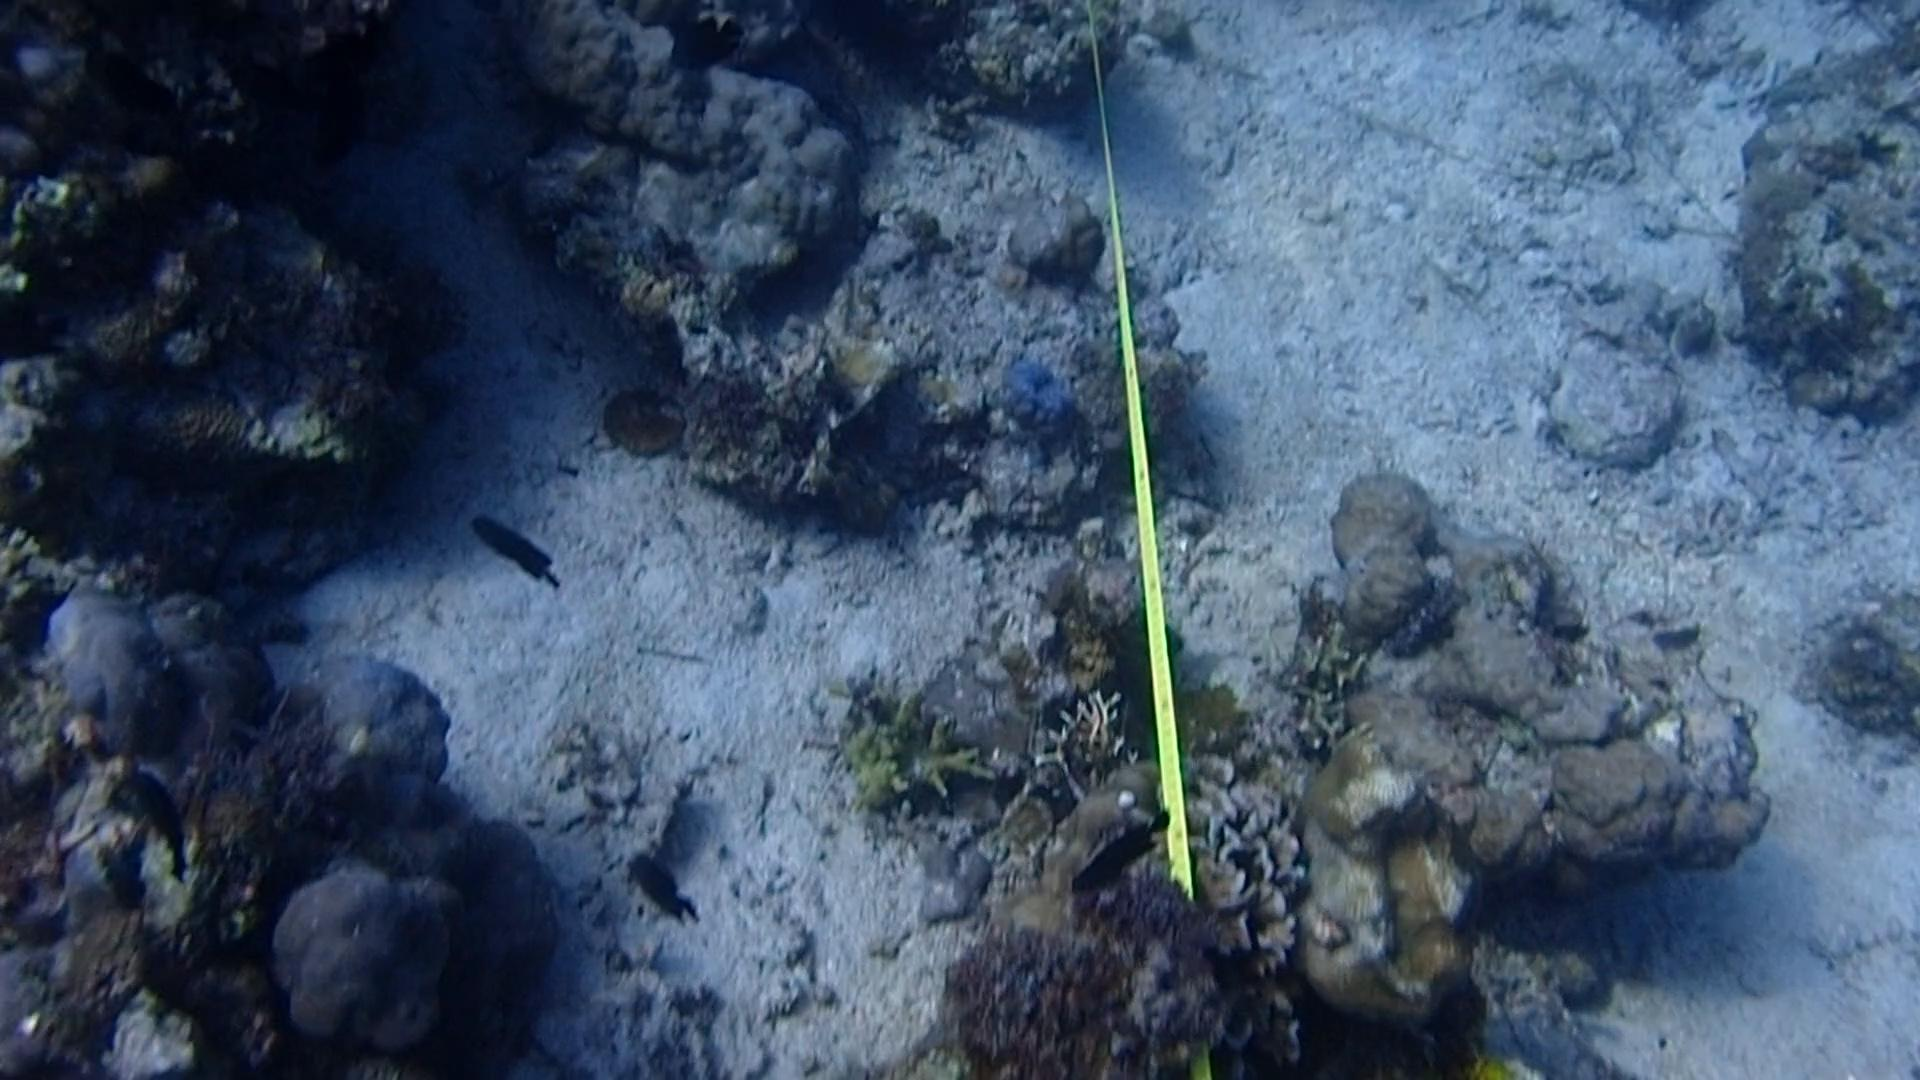Dark Fish: (440, 505, 566, 596), (116, 756, 204, 880), (295, 55, 388, 171), (633, 0, 754, 84), (1058, 818, 1180, 901), (605, 848, 708, 926)
Light Fish: (1652, 287, 1716, 357)
